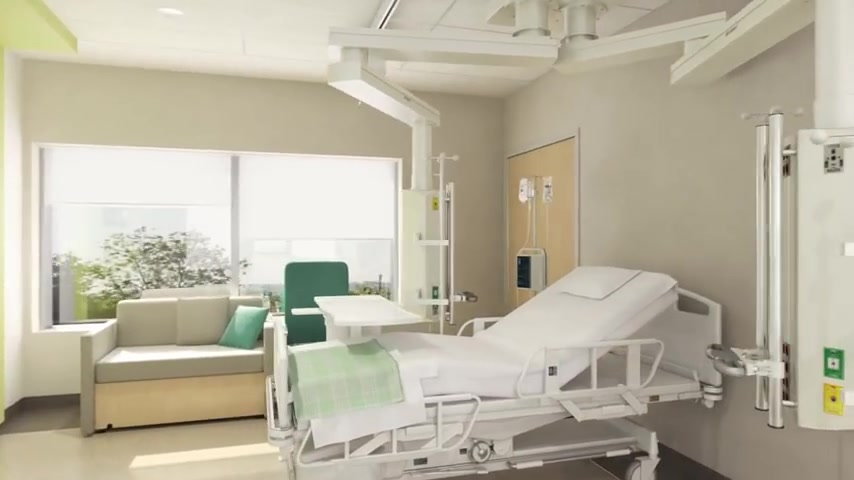bedrail: (296, 393, 481, 469), (514, 340, 667, 399), (456, 314, 504, 336)
foot_board: (272, 315, 291, 431)
hospital_bed: (265, 264, 725, 480)
infusion_pump: (516, 246, 546, 292)
iv_pole: (716, 107, 802, 429), (419, 152, 478, 327), (517, 173, 554, 305)
overbed_table: (312, 295, 427, 342)
sofa: (81, 295, 275, 437)
